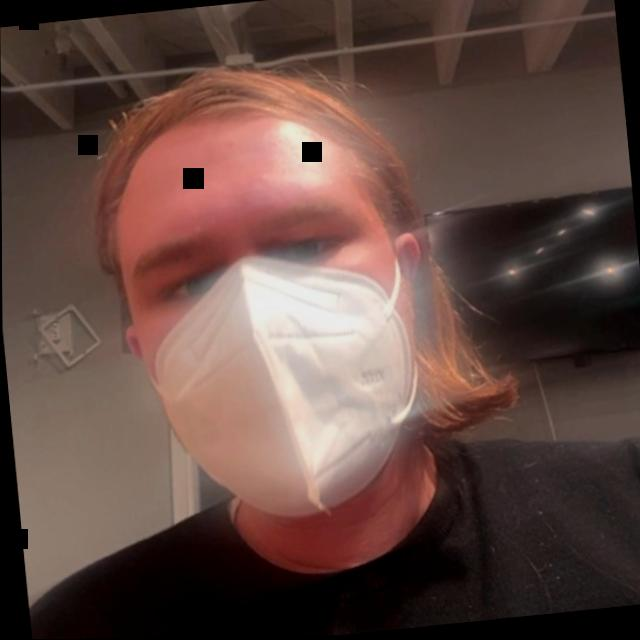Mask: (64, 25, 518, 606)
